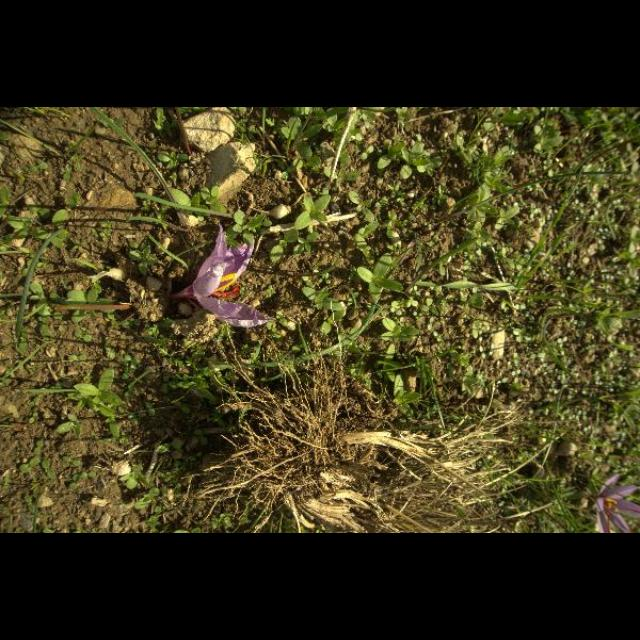flower: (185, 228, 268, 328)
